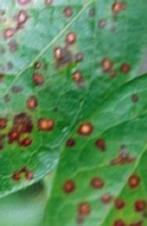Tomato Septoria leaf spot: (0, 0, 147, 222), (30, 33, 147, 226)
